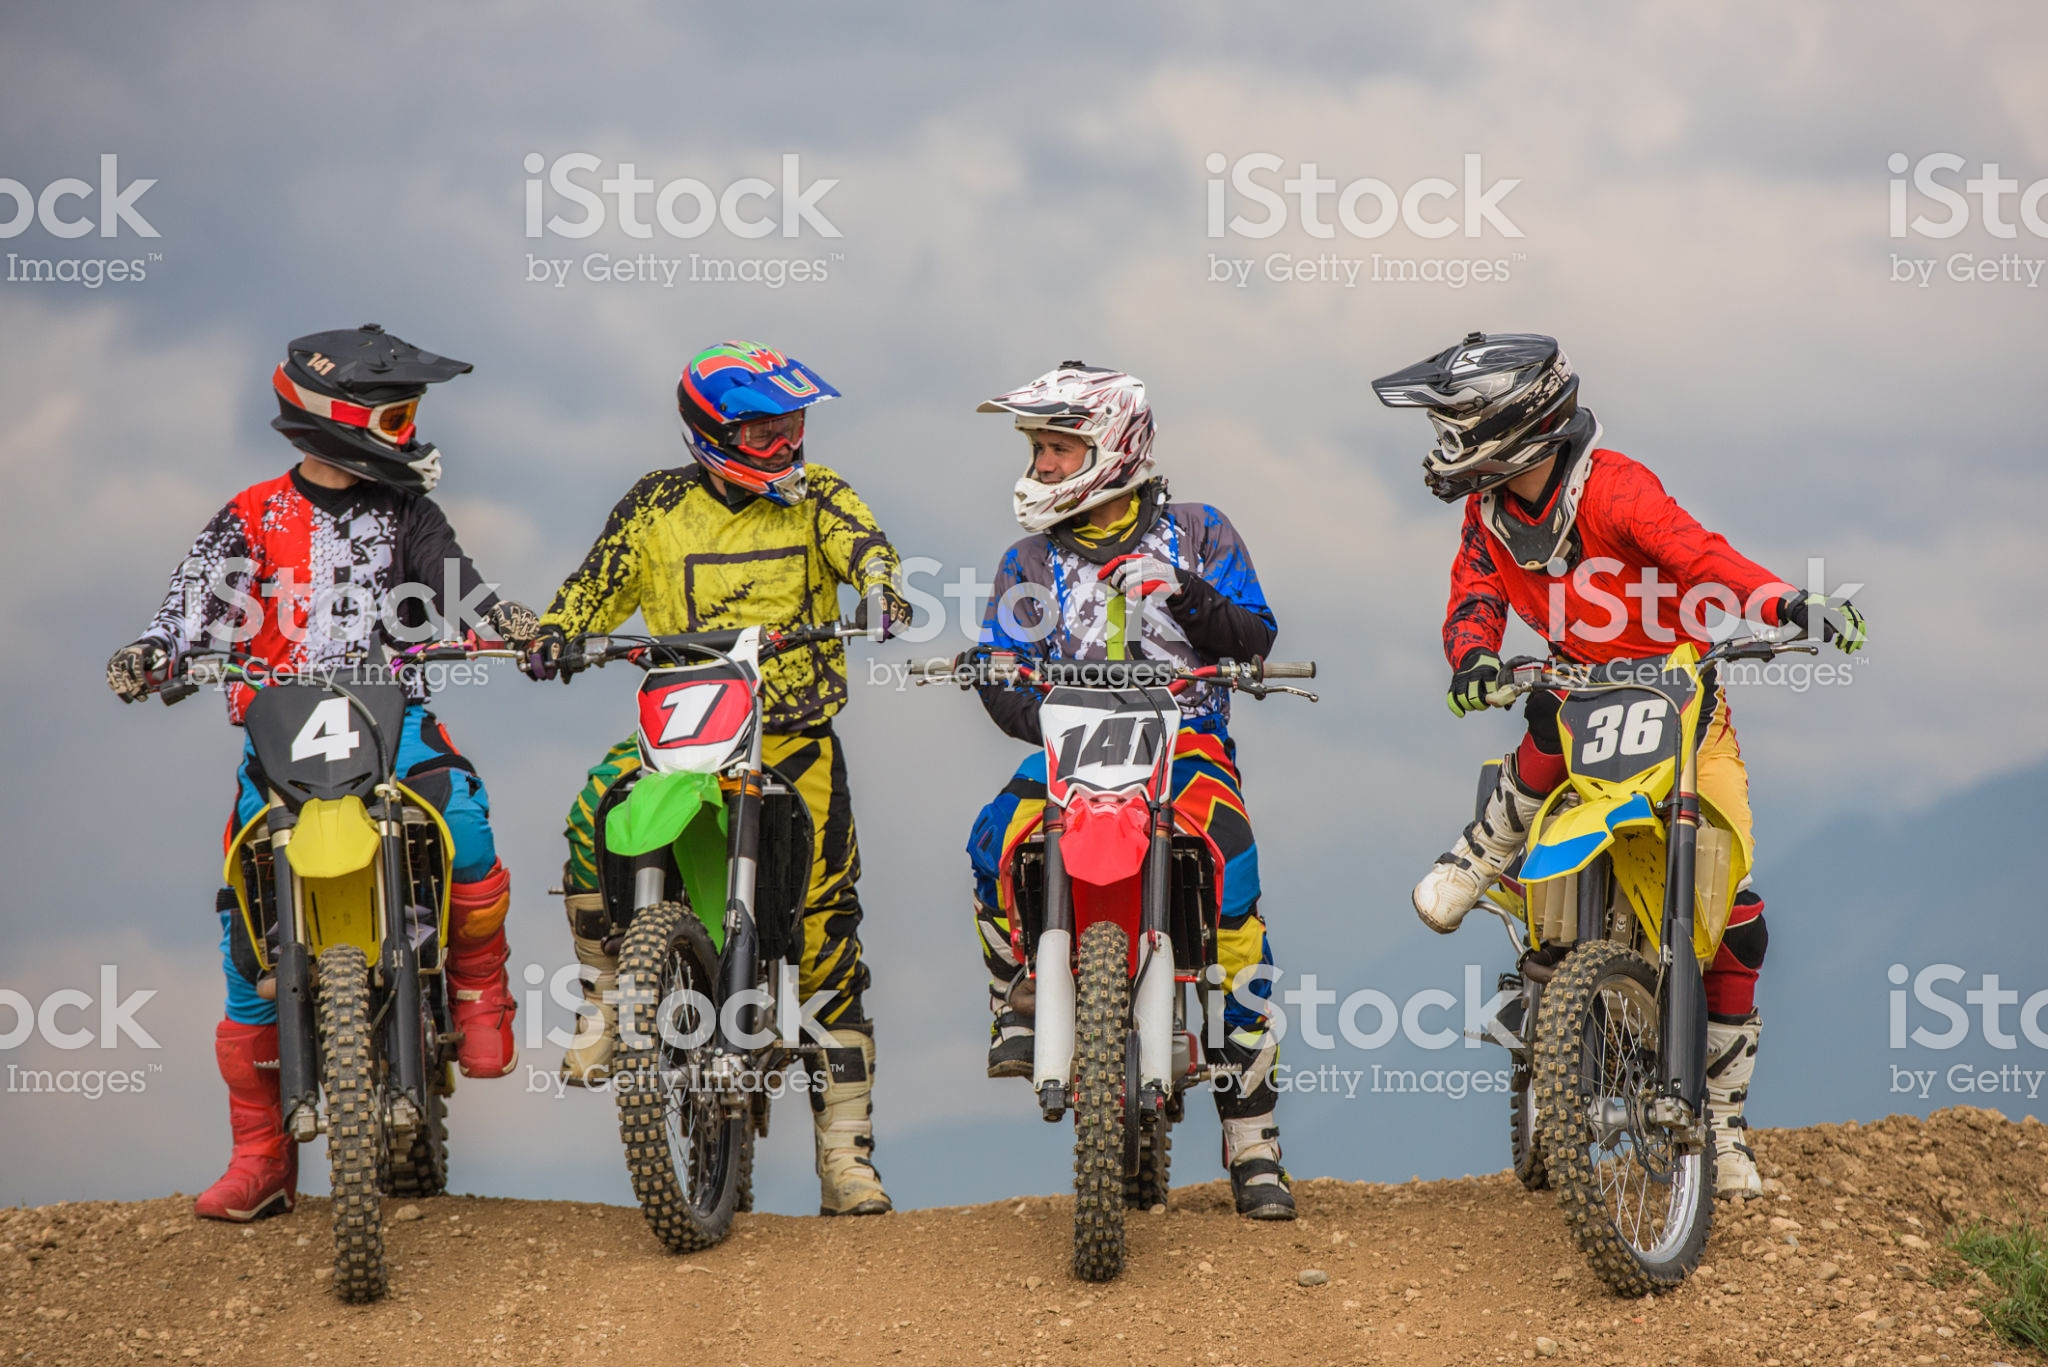helmet: (259, 317, 456, 507), (1382, 313, 1587, 462), (659, 326, 840, 491), (988, 378, 1177, 532)
